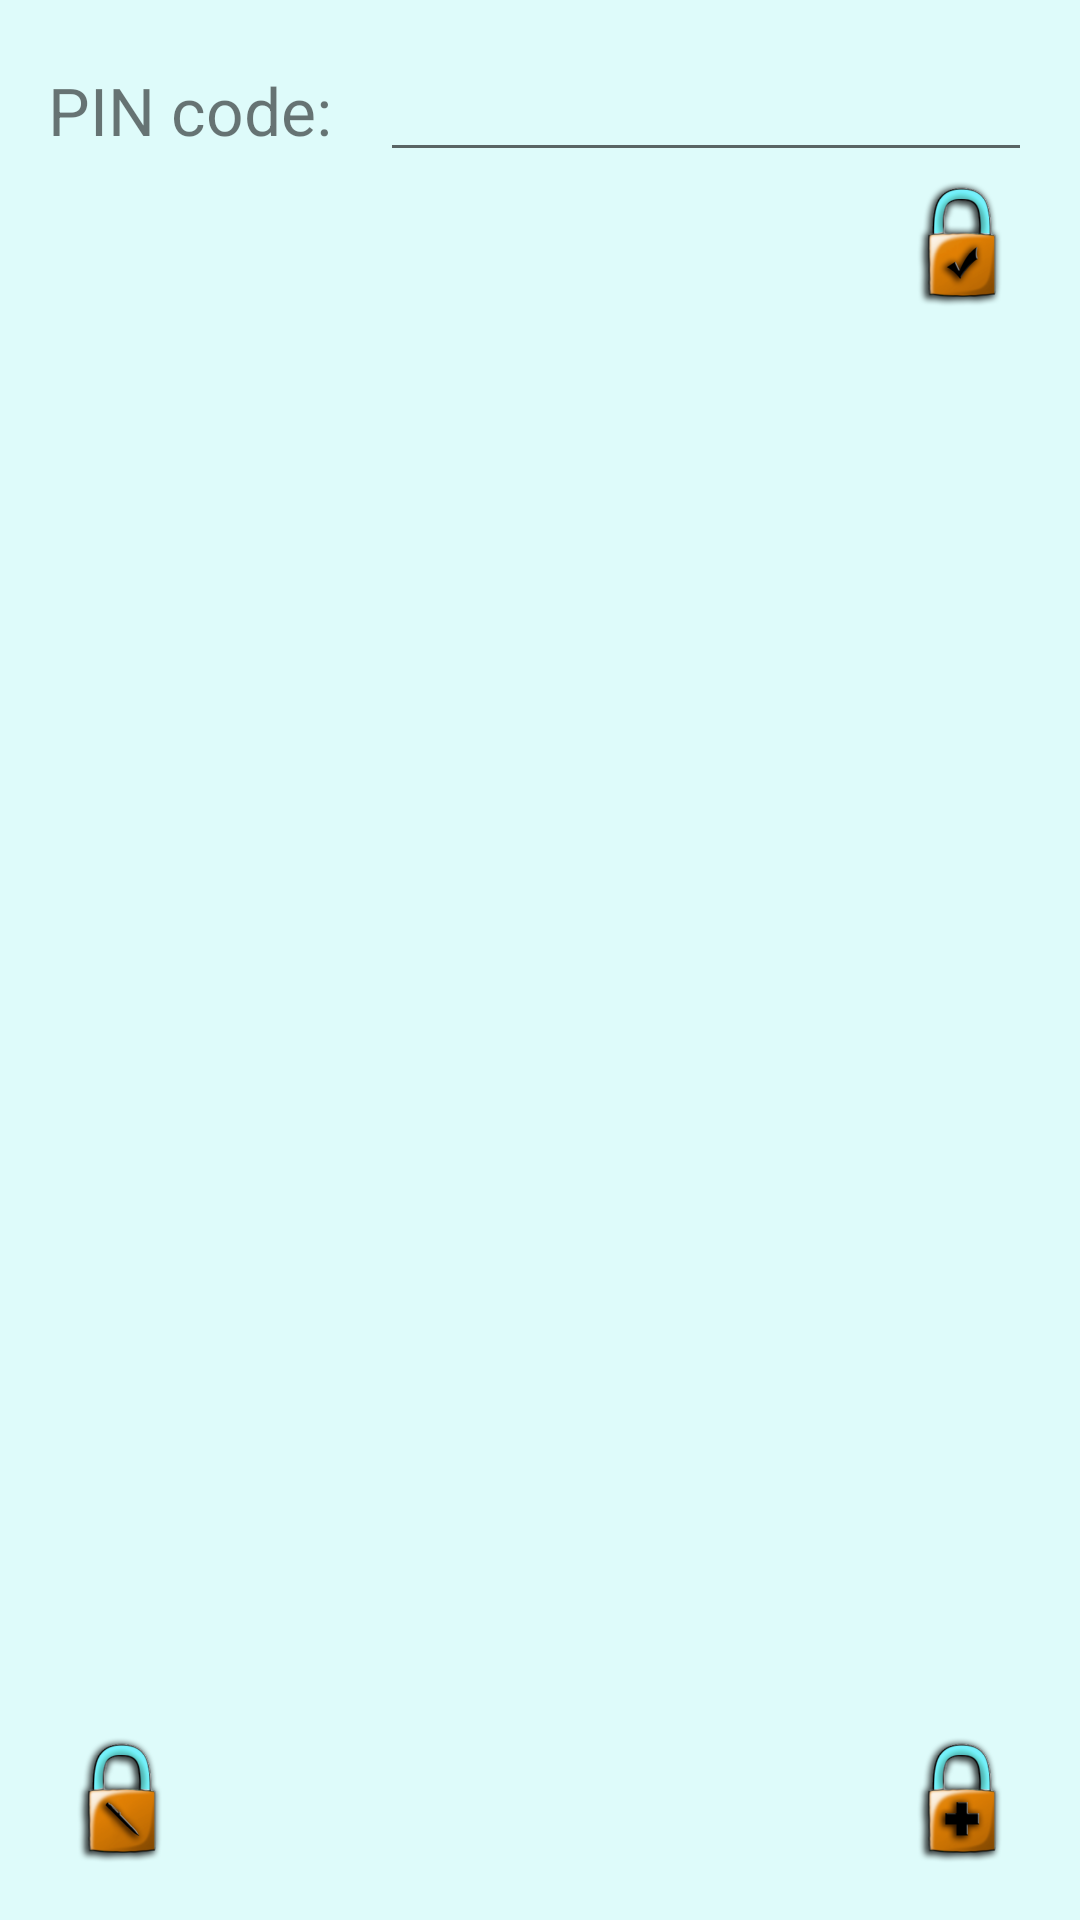

Where icons sit on this 1080px×1920px app screen, as (x1,y1,x2,y2):
cadeado: (920,1740,999,1860)
cadeado edit: (80,1740,159,1860)
cadeado ok: (920,184,999,304)
